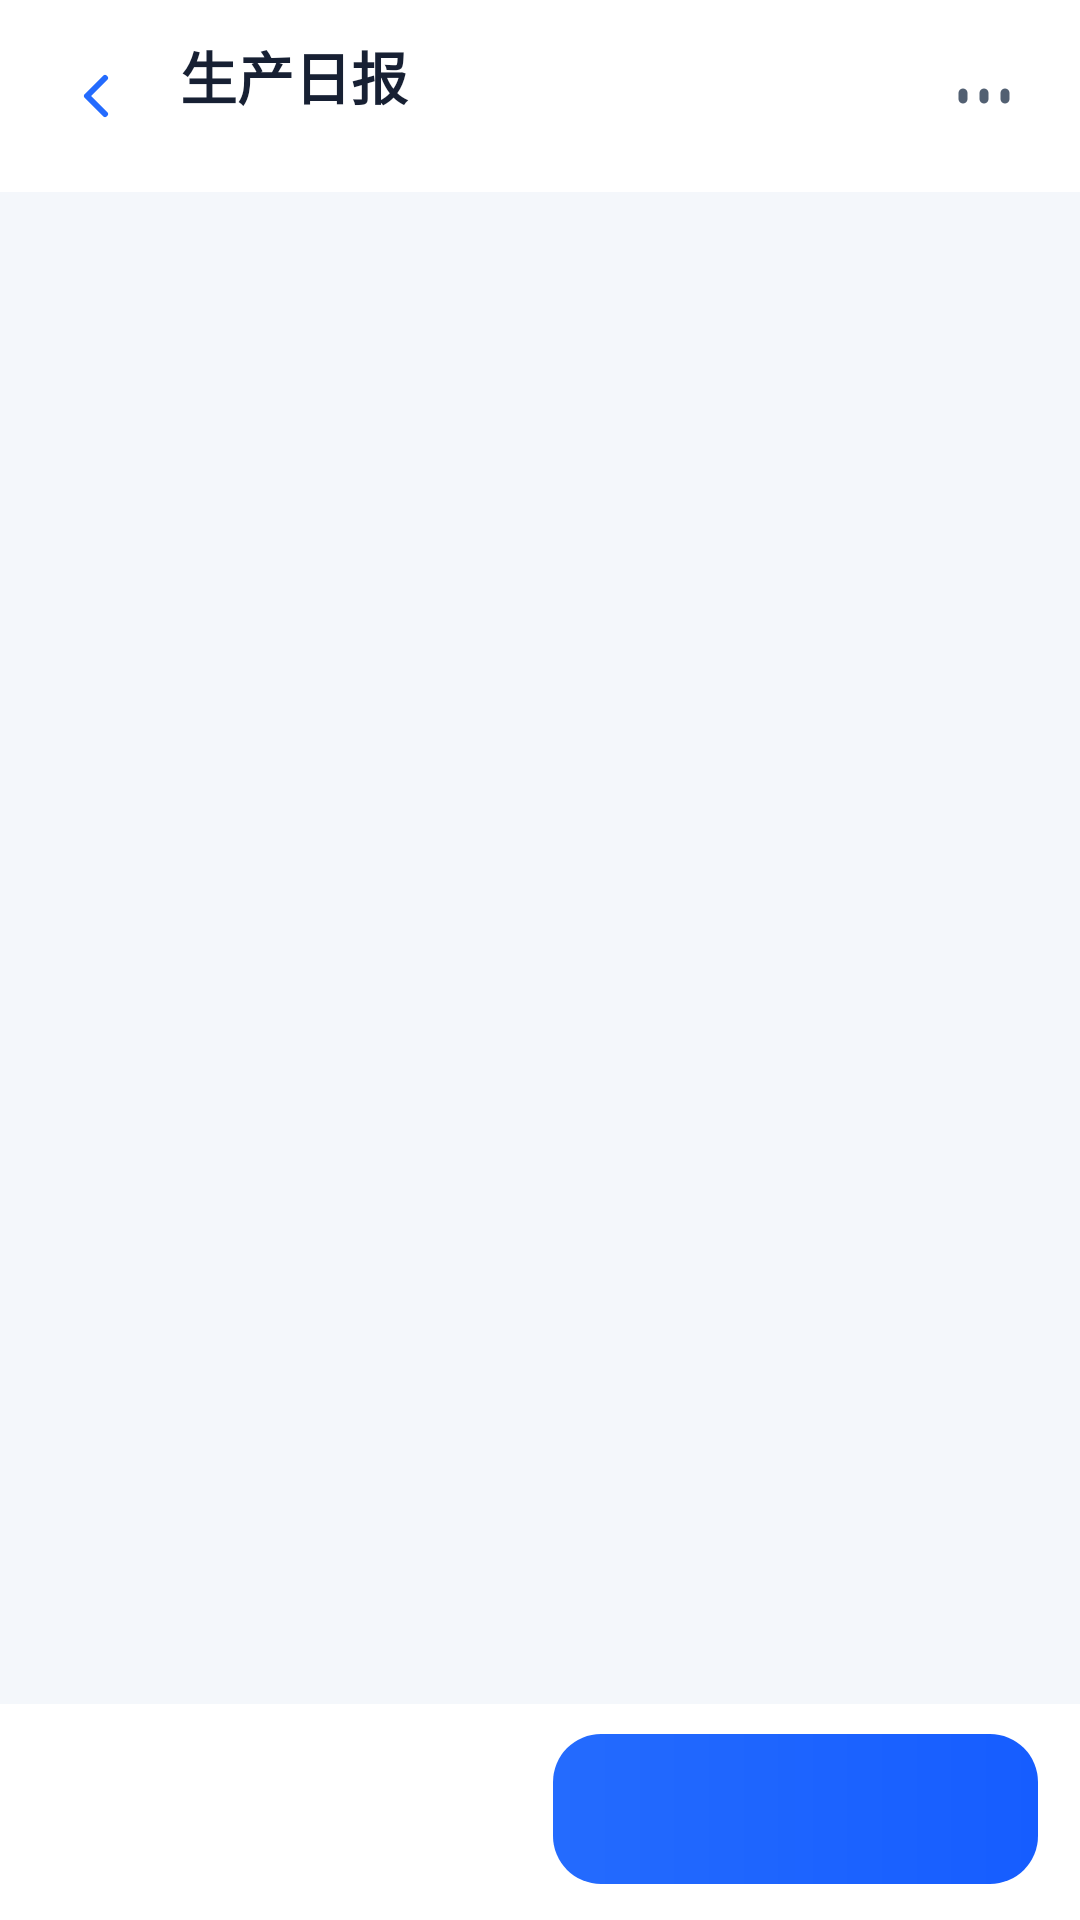

Where icons sit on this 1080px×1920px app screen, as detection(x1, y1, x2, y2):
更多操作: detection(958, 88, 1010, 104)
返回: detection(84, 75, 108, 117)
